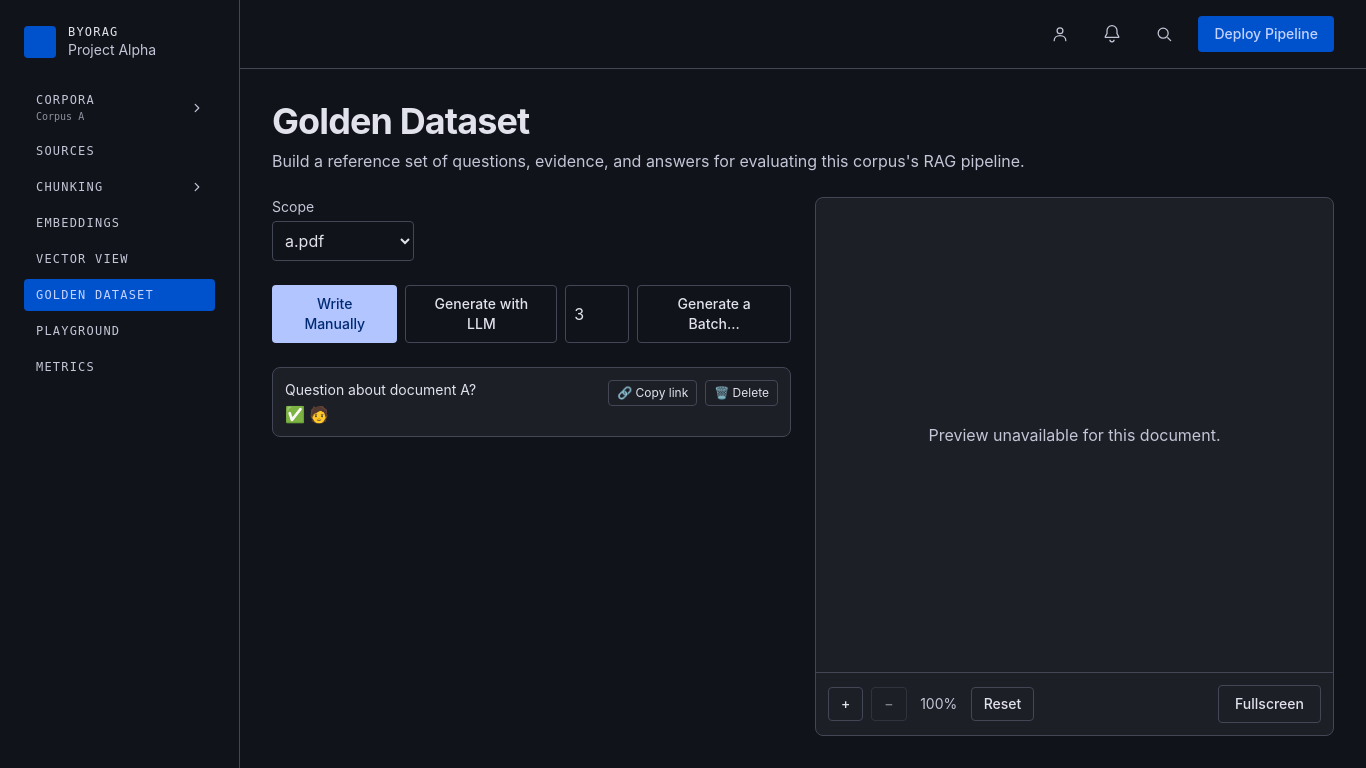
Test: GoldenDatasetScreen — entry list respects the scope dropdown (030-golden-dataset-entry-detail US1) › shows the empty state for a document with no entries of its own, not another document's or the corpus's
This screenshot has width=1366, height=768.
expect the button "Question about document A?" is shown: met, box [285,380,476,400]
Select "c.pdf" in the dropdown labelled "Scope" at (343, 241), box [272,221,414,261]
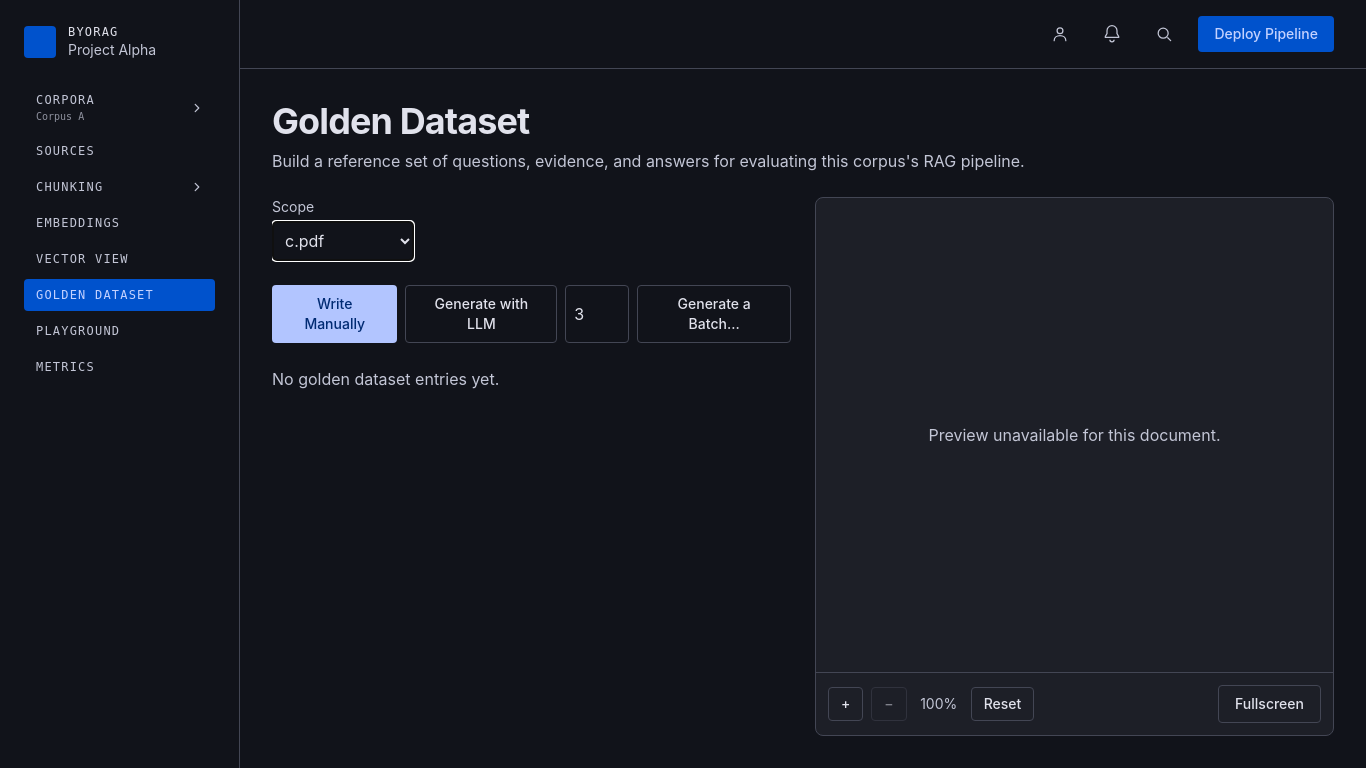
expect the text "No golden dataset entries yet." is shown: met, box [272,369,499,389]
expect the button "Question about document A?" is gone: met
